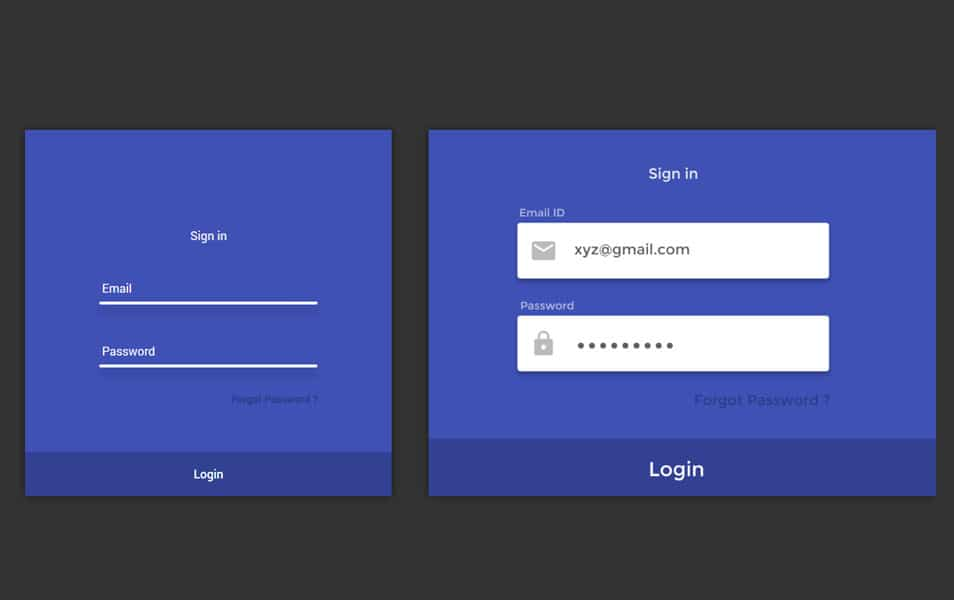_form_: (414, 107, 948, 516), (1, 112, 416, 528)
button: (427, 434, 940, 501), (19, 448, 394, 503)
field: (515, 220, 834, 285), (515, 313, 832, 374)
field_line: (92, 277, 327, 312), (93, 339, 320, 374)
